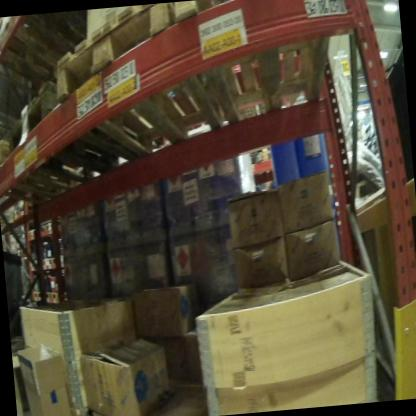pallet: (49, 4, 203, 166), (175, 0, 326, 122), (2, 78, 103, 195), (0, 14, 51, 84), (0, 138, 10, 171)
